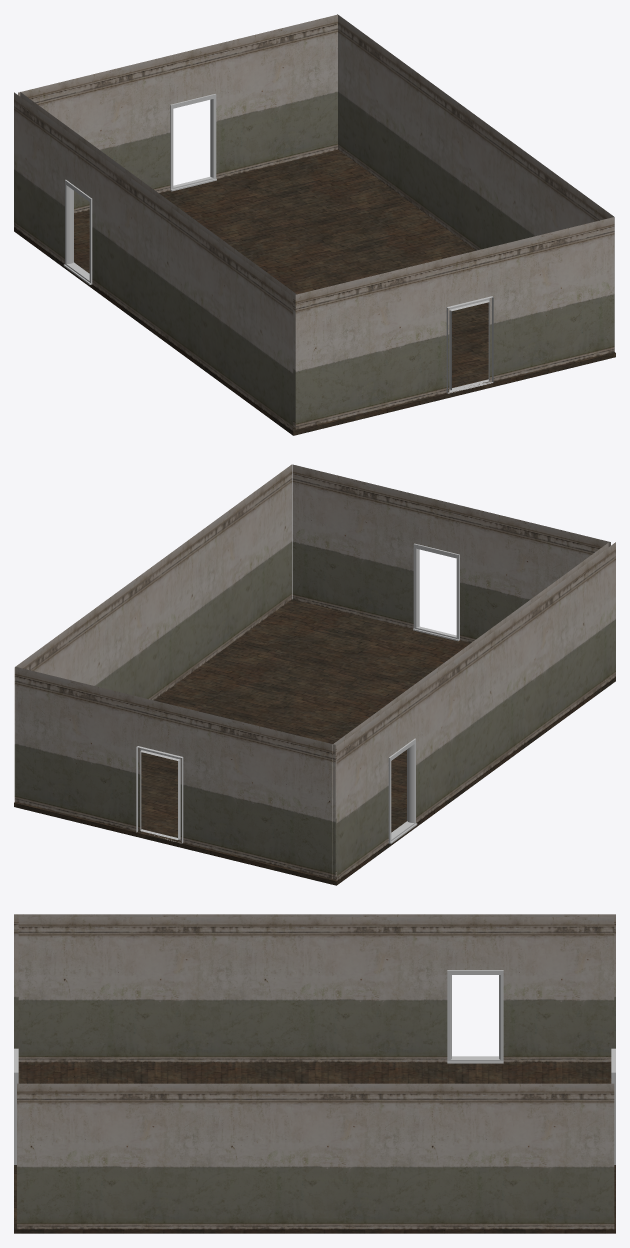
File: room_15m_x_10m_2_doors.fbx
The picture shows the model from 3 angles, top to bottom: view 1: azimuth 30°, elevation 25°; view 2: azimuth 150°, elevation 25°; view 3: azimuth 270°, elevation 25°; orthographic projection. The views are drawn at different scales.
Visible parts, largest first — view 1: room_15m_x_10m_2_doors; view 2: room_15m_x_10m_2_doors; view 3: room_15m_x_10m_2_doors.
Boxes of the visible parts, box(x1,y1,x2,y2) form: room_15m_x_10m_2_doors: box(14, 14, 615, 435); room_15m_x_10m_2_doors: box(14, 464, 615, 885); room_15m_x_10m_2_doors: box(14, 914, 615, 1233).
Size of the model in its own units: 1008 by 412 by 1500.
